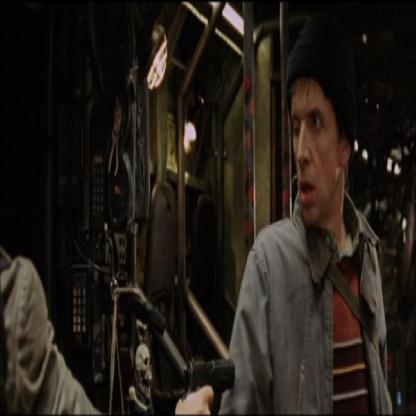Guns: (181, 348, 237, 414)
